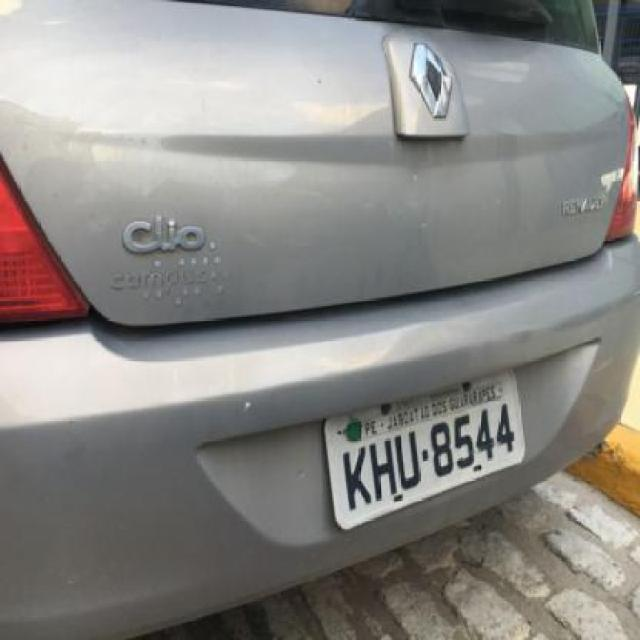old_plate: (313, 362, 528, 536)
